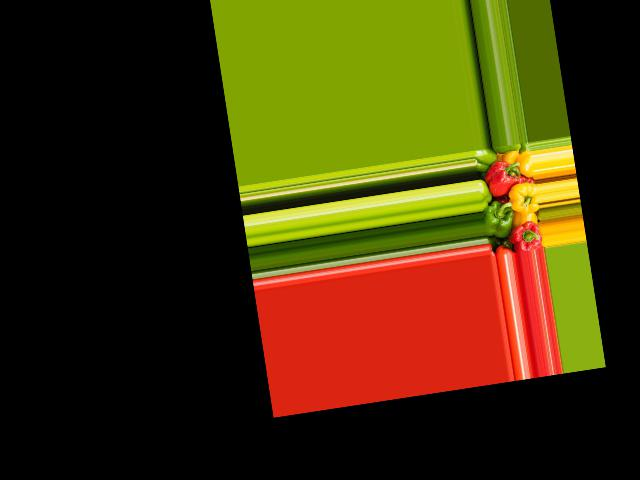bell_pepper: (506, 215, 543, 253)
